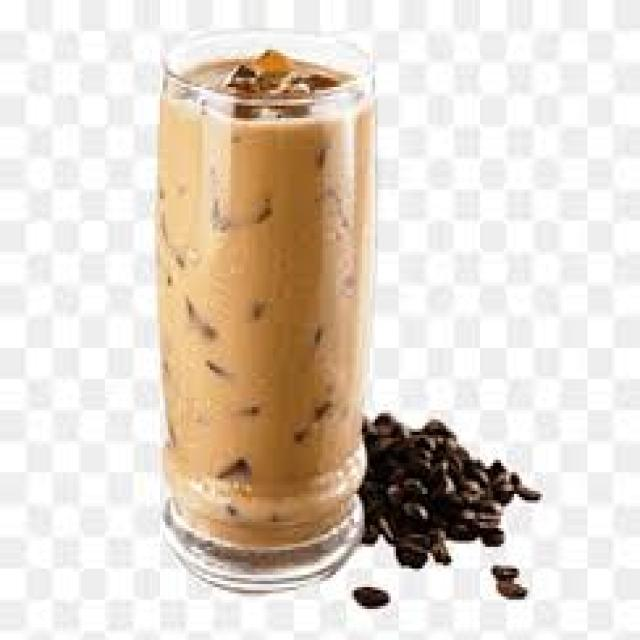bottle: (159, 33, 372, 590)
